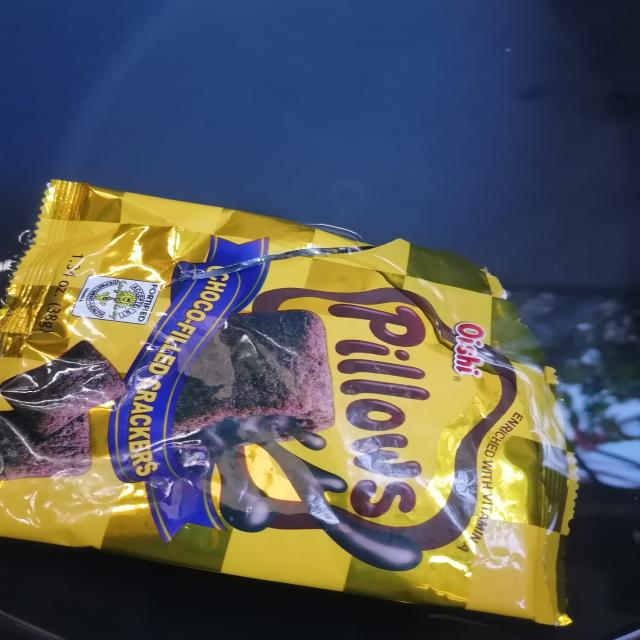Plastic Wrapper: (0, 180, 576, 626)
